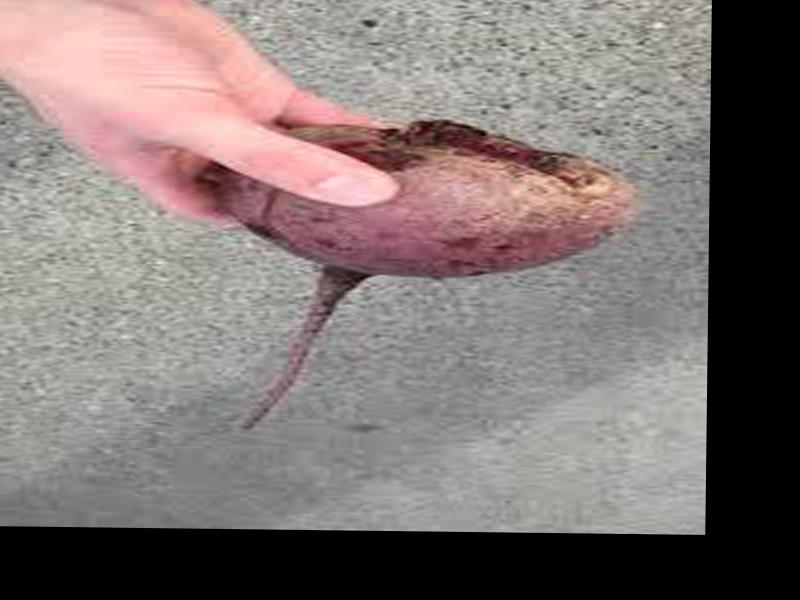Beet: (226, 118, 634, 433)
